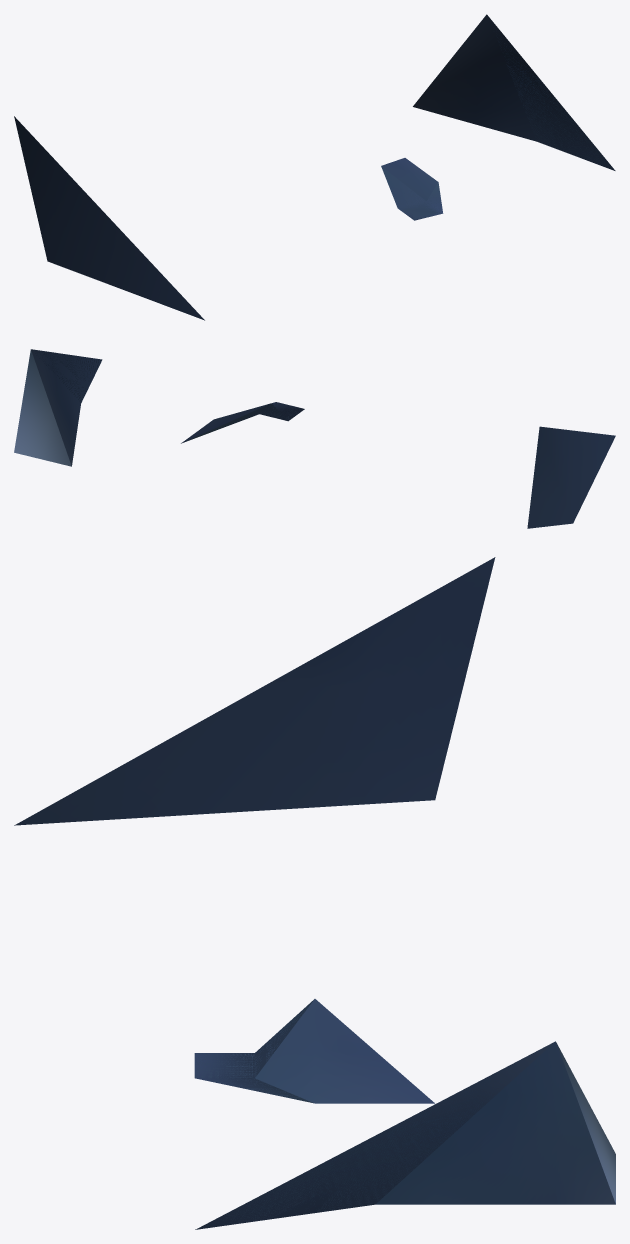
3 renders of one model, top to bottom at view 1: azimuth 30°, elevation 25°; view 2: azimuth 150°, elevation 25°; view 3: azimuth 270°, elevation 25°, orthographic. The views are drawn at different scales.
Parts seen in each view (by area): view 1: 30436272704370427714_0; view 2: 30436272704370427714_0; view 3: 30436272704370427714_0.
Boxes of the visible parts, x1=… form: 30436272704370427714_0: x1=14, y1=14, x2=615, y2=320; 30436272704370427714_0: x1=14, y1=349, x2=615, y2=528; 30436272704370427714_0: x1=14, y1=557, x2=615, y2=1229.
Size of the model in its own units: 2.76 by 0.6163 by 1.54.
Materials: 1 (1 with a texture image).
